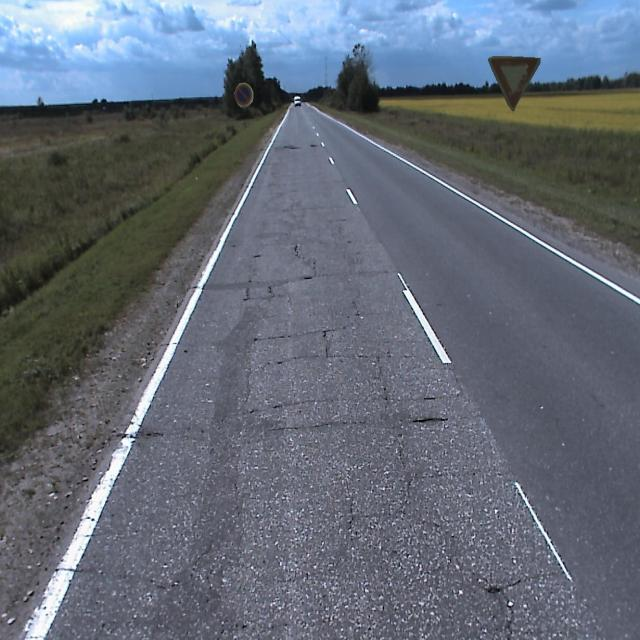road: (14, 103, 639, 639)
